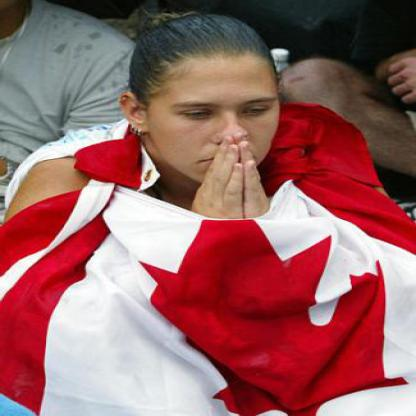face: (143, 22, 284, 185)
